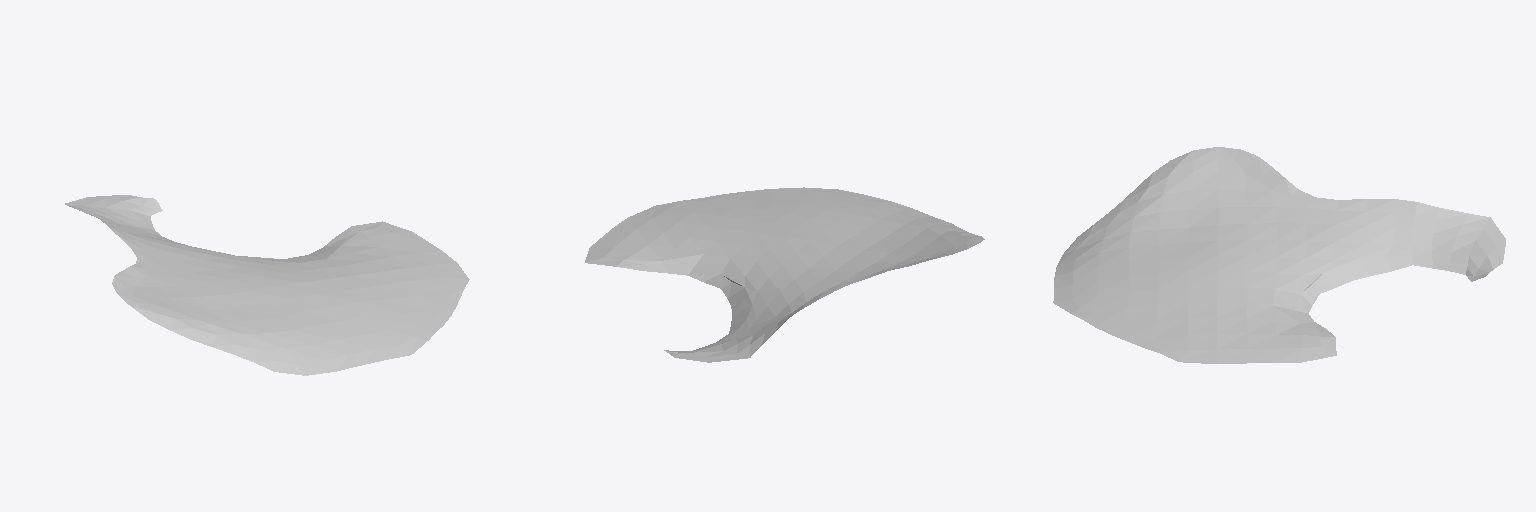
Rendered from RayCastMesh.obj.
The picture shows the model from 3 angles: view 1: azimuth 30°, elevation 25°; view 2: azimuth 150°, elevation 25°; view 3: azimuth 270°, elevation 25°; orthographic projection.
Parts seen in each view (by area): view 1: Extract0; view 2: Extract0; view 3: Extract0.
Boxes of the visible parts, box(x1,y1,x2,y2) form: Extract0: box(65, 195, 469, 375); Extract0: box(585, 187, 984, 362); Extract0: box(1053, 147, 1505, 363).
Size of the model in its own units: 0.4899 by 0.0734 by 0.5652.